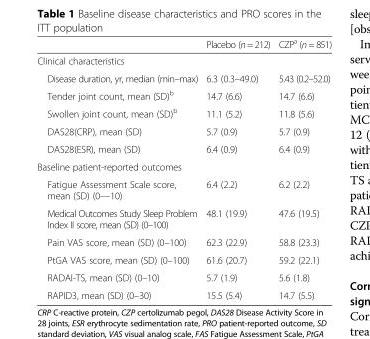table: (36, 36, 331, 300)
table column: (36, 36, 201, 300), (201, 36, 273, 300), (273, 36, 331, 300)
table column header: (36, 36, 331, 52)
table projected row header: (36, 157, 331, 175), (36, 52, 331, 69)
table row: (36, 175, 331, 204), (36, 204, 331, 233), (36, 103, 331, 122), (36, 139, 331, 157), (36, 157, 331, 175), (36, 250, 331, 268), (36, 268, 331, 286), (36, 52, 331, 69), (36, 69, 331, 86), (36, 86, 331, 103), (36, 122, 331, 139), (36, 233, 331, 250), (36, 36, 331, 52), (36, 286, 331, 300)
